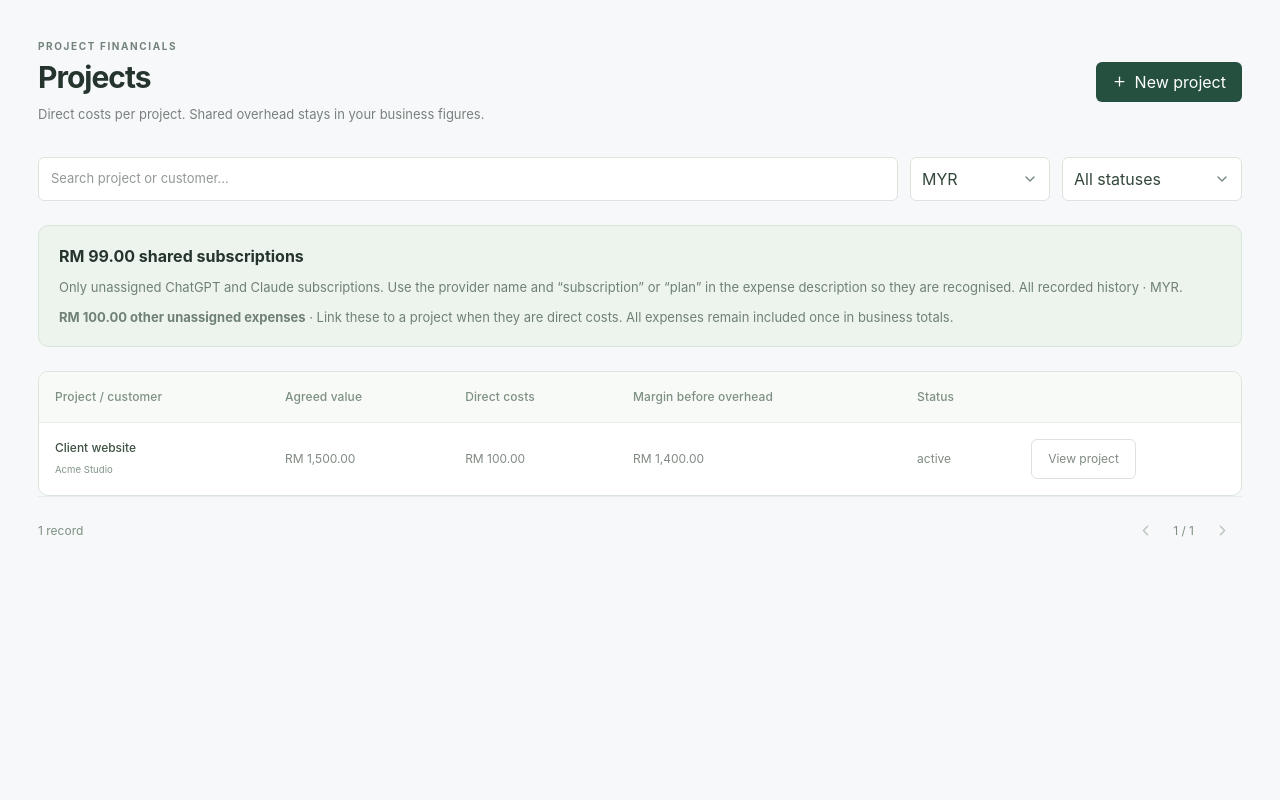
Test: shows shared overhead separately from project direct costs and explains the margin
Expected: the text "RM 99.00 shared subscriptions" is shown, [59,246,304,266]
Expected: the text "RM 100.00 other unassigned expenses" is shown, [59,309,306,325]
What coordinates should you click on to do the following:
click the button with aria-label "View Client website"
I would click on:
 (1084, 459)
Its box is [1031,439,1136,479].
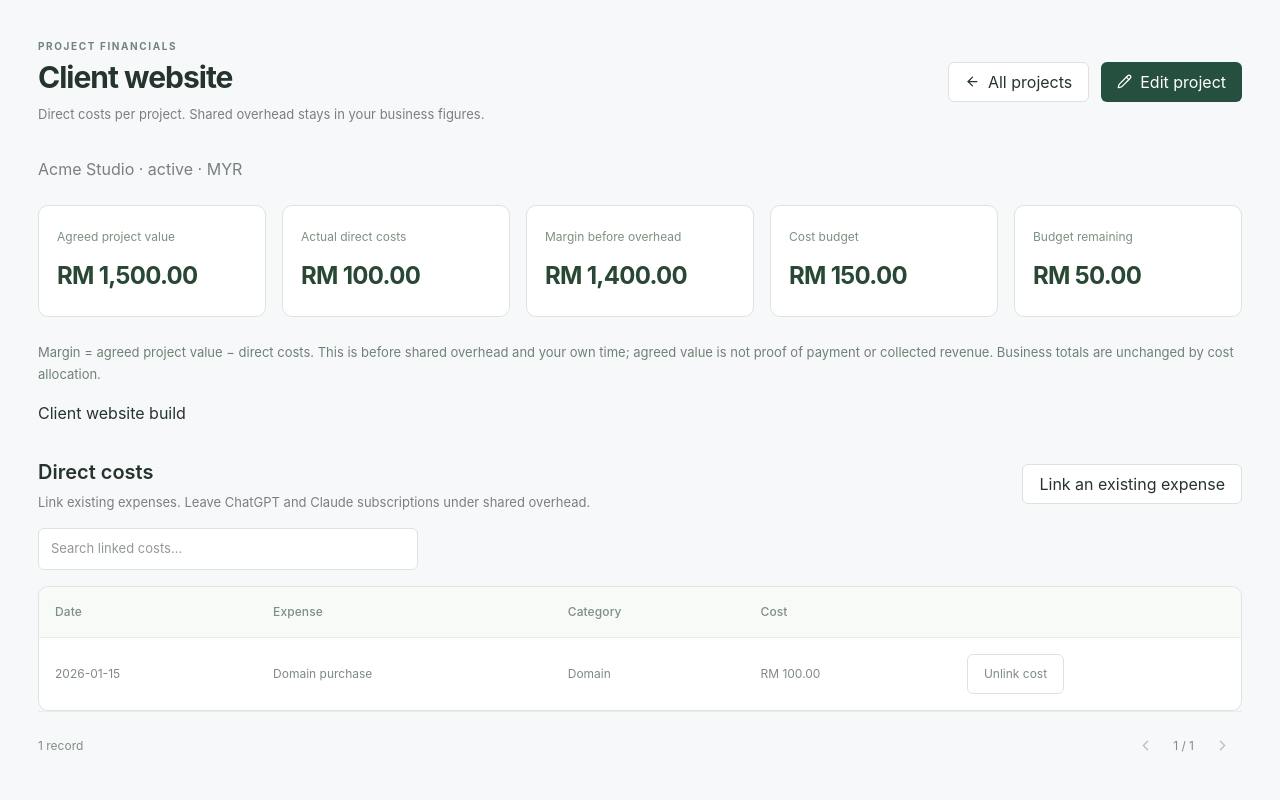
Now the heading "Client website" is shown, box [38,59,232,95]
Now the text "Margin = agreed project value" is shown, box [38,344,1234,382]
